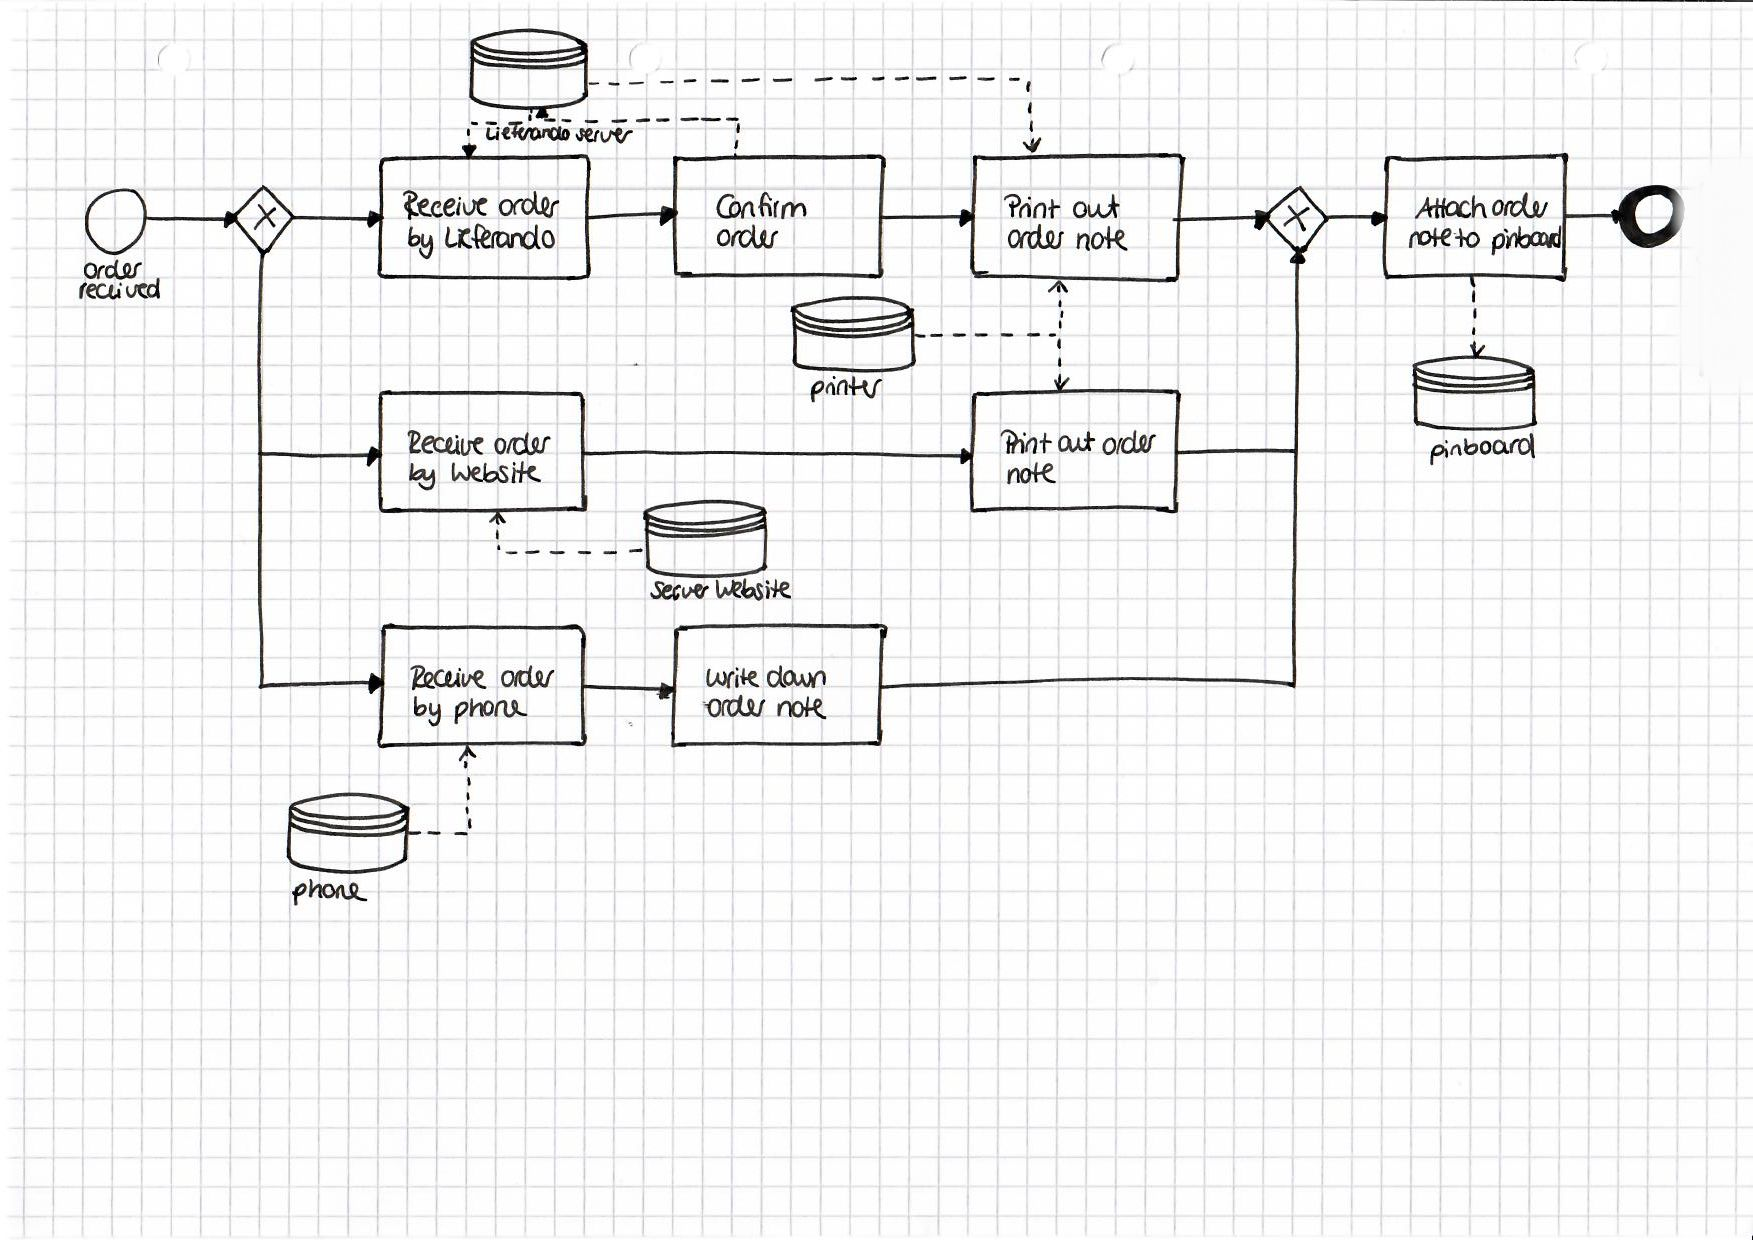Attach: (1413, 195, 1489, 224)
Confirm: (713, 193, 809, 223)
Lieferando: (439, 224, 560, 256), (481, 125, 574, 145)
Print: (1001, 192, 1064, 223), (997, 429, 1052, 458)
Receive: (400, 191, 493, 221), (405, 429, 489, 458), (405, 666, 493, 692)
Website: (710, 576, 793, 603)
by: (407, 695, 450, 725), (403, 225, 434, 258), (408, 462, 442, 488)
down: (764, 666, 830, 691)
note: (1076, 225, 1130, 254), (774, 696, 828, 723), (1405, 225, 1456, 254), (1008, 462, 1056, 484)
order: (497, 191, 564, 221), (1001, 225, 1068, 254), (1101, 429, 1160, 459), (491, 431, 554, 458), (702, 694, 770, 718), (715, 225, 780, 251), (501, 664, 558, 692), (1489, 195, 1549, 221), (81, 258, 144, 280)
out: (1071, 193, 1122, 223), (1054, 429, 1097, 458)
phone: (283, 878, 368, 906), (454, 695, 530, 725)
pinboard: (1425, 433, 1536, 467), (1489, 227, 1566, 259)
printer: (805, 376, 885, 404)
received: (77, 279, 162, 303)
server: (572, 119, 639, 146), (650, 577, 715, 603)
to: (1451, 227, 1485, 254)
website: (450, 462, 544, 488)
write: (701, 666, 766, 692)
